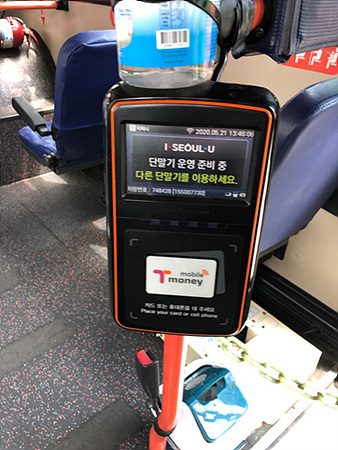terminal: (105, 82, 261, 334)
